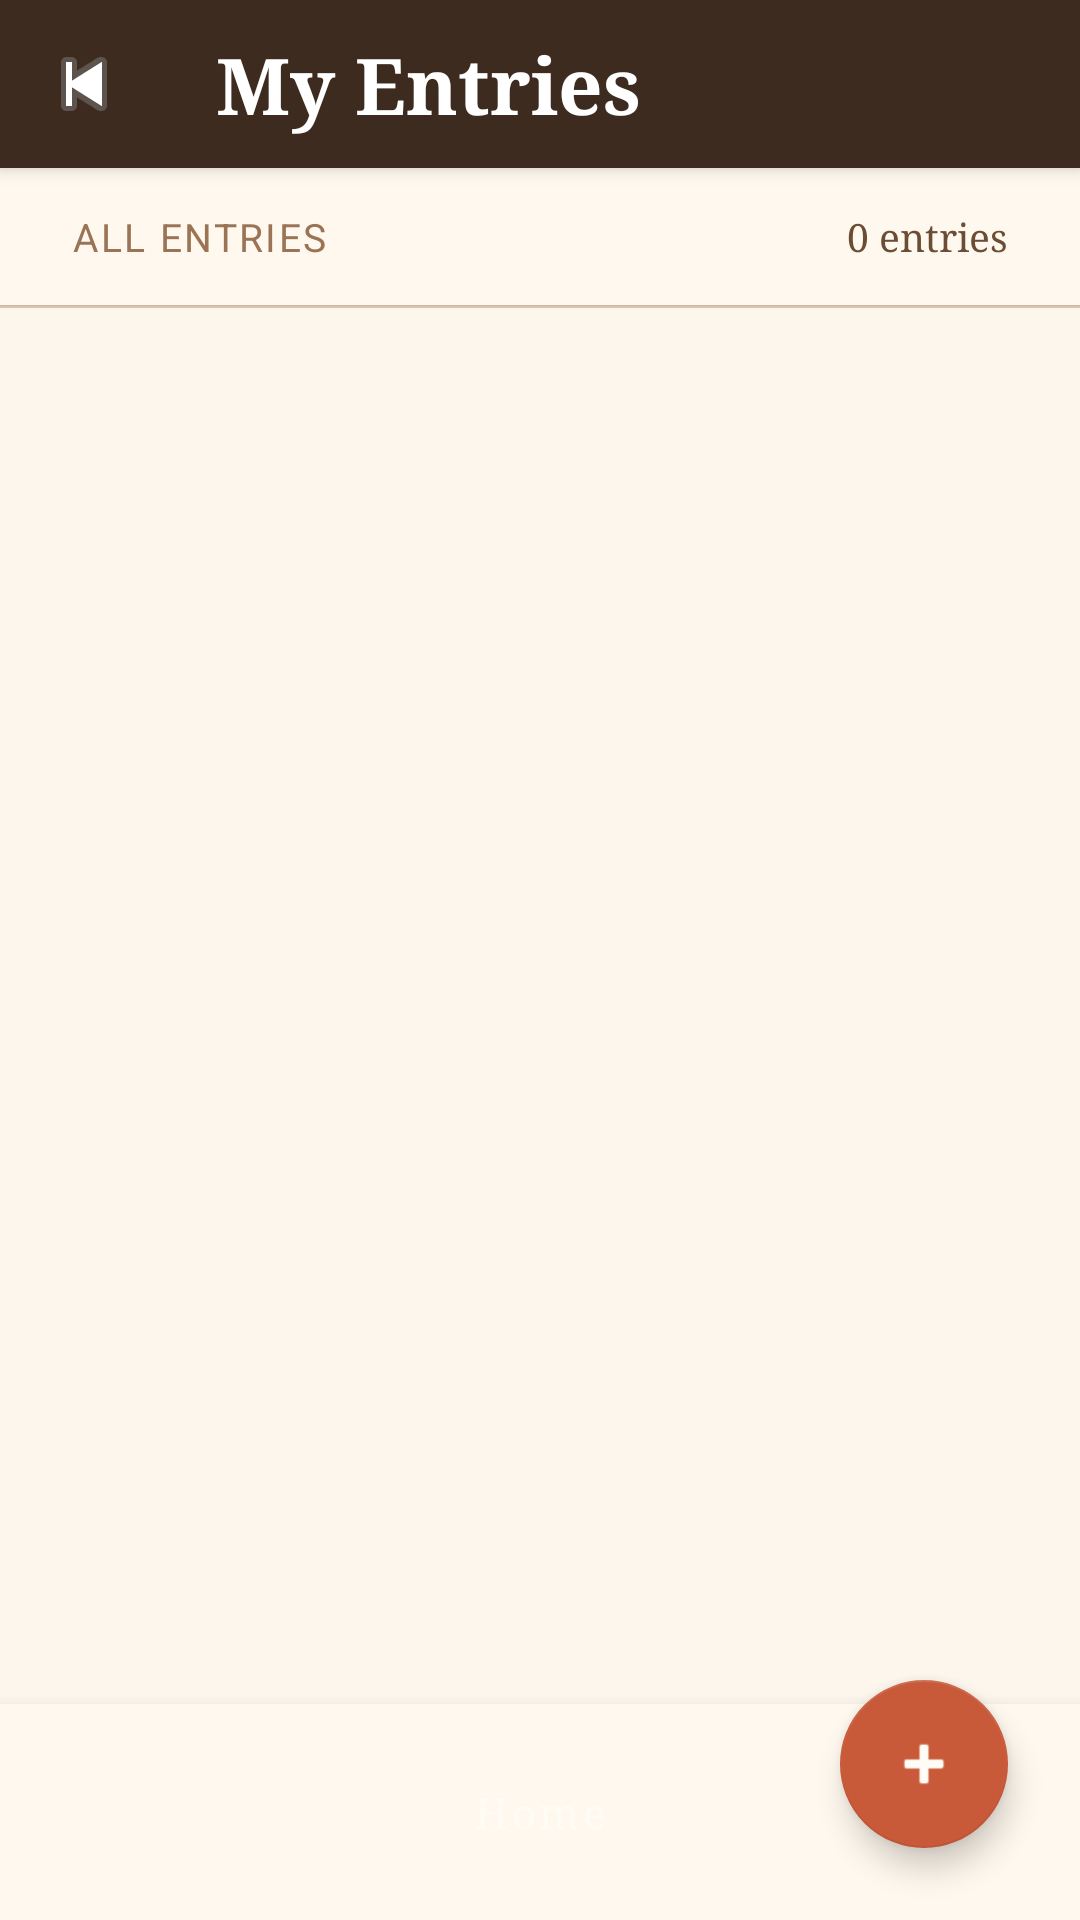

Icons on this 1080x1920 Android screen, each with its box as (x1, y1, x2, y2):
Add New Entry: (840, 1680, 1008, 1848)
